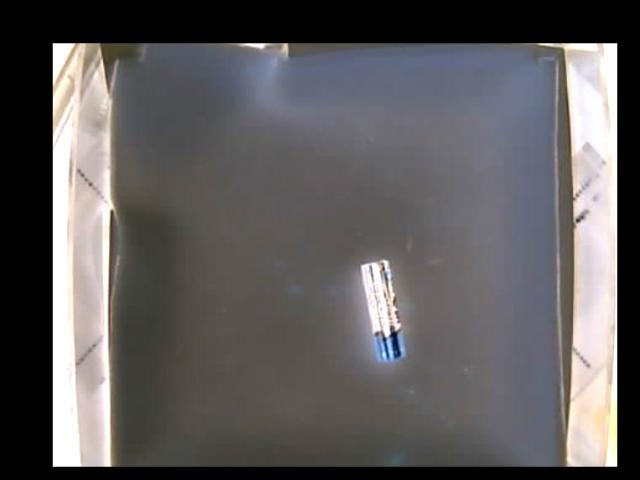Battery: (360, 261, 406, 359)
